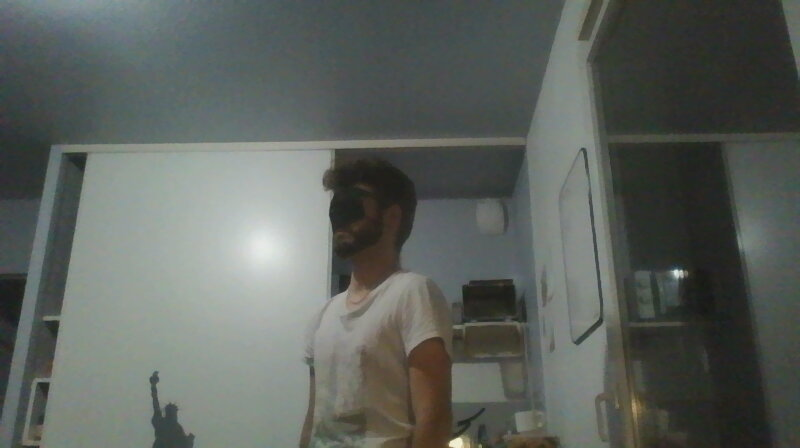with_incorrect_mask: (320, 165, 405, 270)
